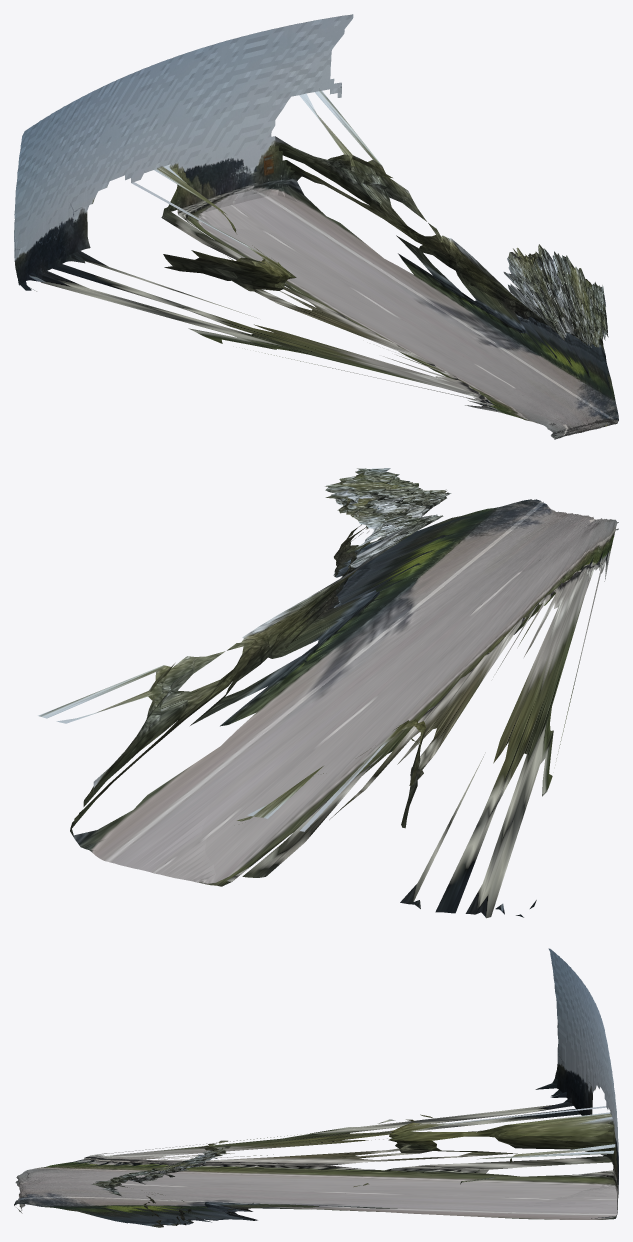
3 renders of one model, top to bottom at view 1: azimuth 30°, elevation 25°; view 2: azimuth 150°, elevation 25°; view 3: azimuth 270°, elevation 25°, orthographic. The views are drawn at different scales.
Parts seen in each view (by area): view 1: defaultobject; view 2: defaultobject; view 3: defaultobject.
Boxes of the visible parts, x1,y1,x2,y2 form: defaultobject: (14,14,618,439); defaultobject: (38,468,618,918); defaultobject: (14,948,618,1227).
Size of the model in its own units: 27.77 by 12.78 by 44.47.
1 material, 1 textured.
